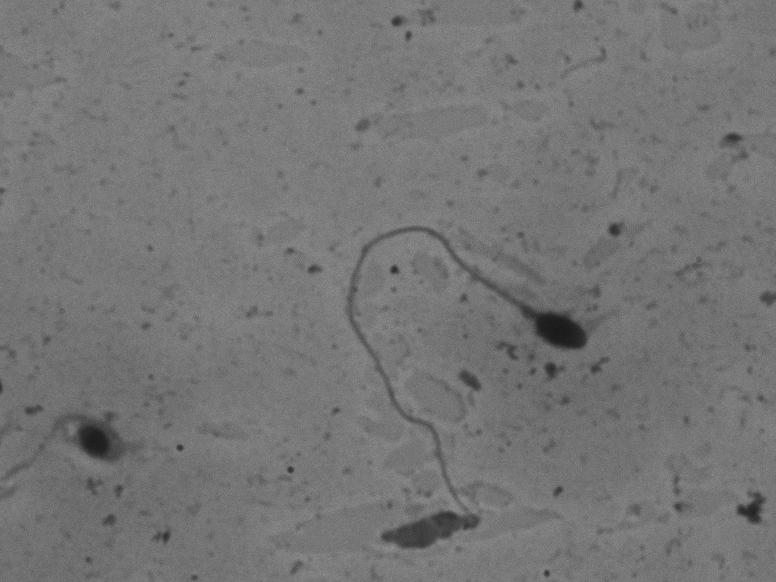Normal: (311, 215, 625, 522)
